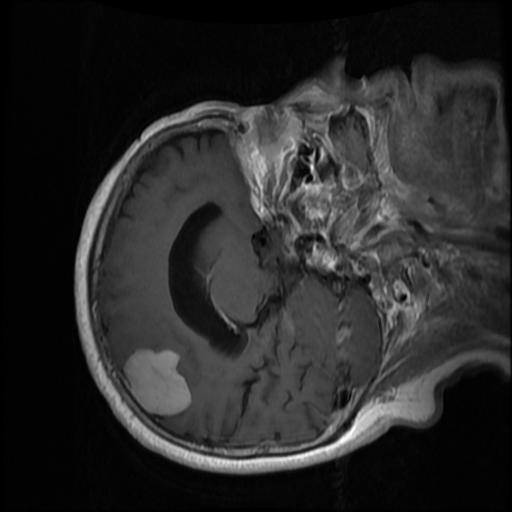meningioma: (122, 348, 192, 416)
